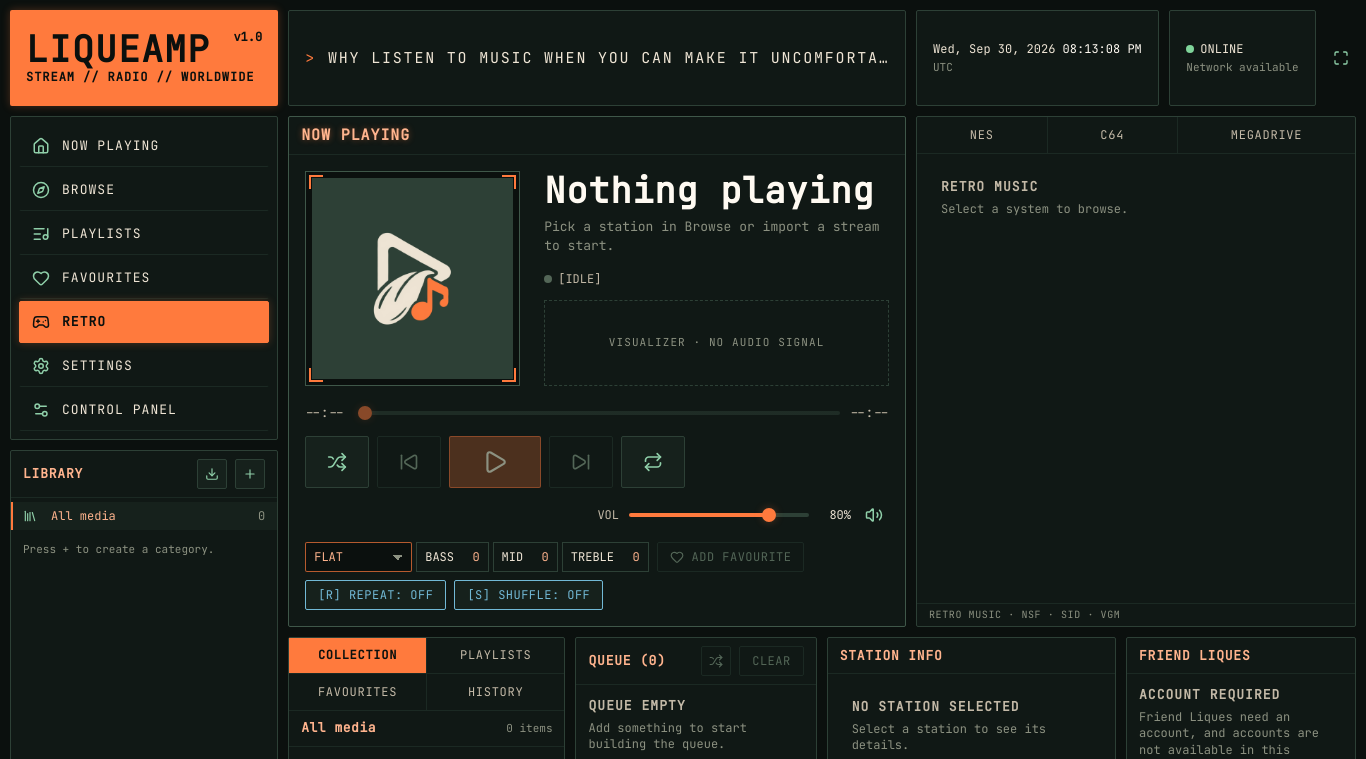
Test: Retro panel › a chosen system is marked and names the search field; without a source it says so honestly
Click the tab "C64" at (1113,135), box [1048,117,1178,153]
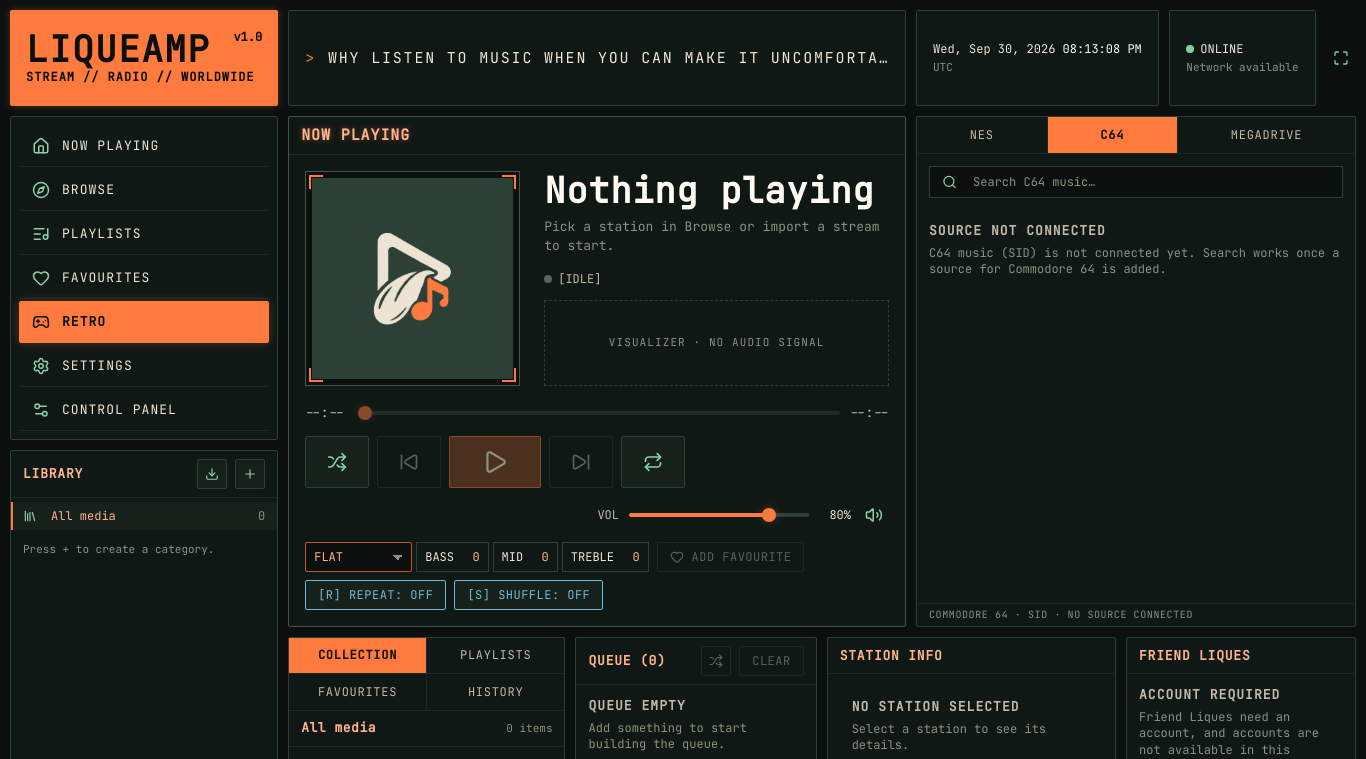
Result: the search field labelled "Search C64 music" is disabled at [965,167,1342,197]
Result: the text "SOURCE NOT CONNECTED" is shown at [929,222,1106,240]
Result: the text "Commodore 64 · SID · no source connected" is shown at [917,603,1355,626]
